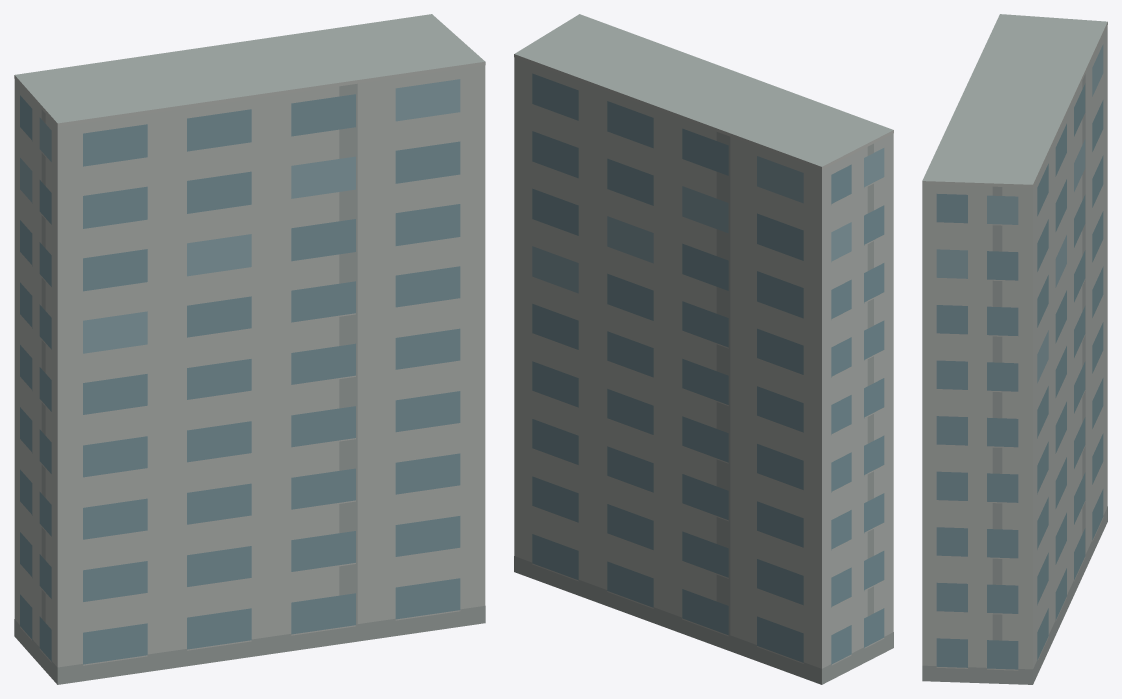
Rendered from residential-ff4130e3-79c9-4cf9-96ae-1370324156b1.glb.
3 renders of one model, left to right at view 1: azimuth 30°, elevation 25°; view 2: azimuth 150°, elevation 25°; view 3: azimuth 270°, elevation 25°, orthographic. The views are drawn at different scales.
Visible parts, largest first — view 1: residential-ff4130e3-79c9-4cf9-96ae-1370324156b1.tmp; view 2: residential-ff4130e3-79c9-4cf9-96ae-1370324156b1.tmp; view 3: residential-ff4130e3-79c9-4cf9-96ae-1370324156b1.tmp.
Boxes of the visible parts, x1,y1,x2,y2 form: residential-ff4130e3-79c9-4cf9-96ae-1370324156b1.tmp: [14, 14, 485, 684]; residential-ff4130e3-79c9-4cf9-96ae-1370324156b1.tmp: [514, 14, 893, 684]; residential-ff4130e3-79c9-4cf9-96ae-1370324156b1.tmp: [922, 14, 1107, 684].
Size of the model in its own units: 27.84 by 38 by 12.79.
